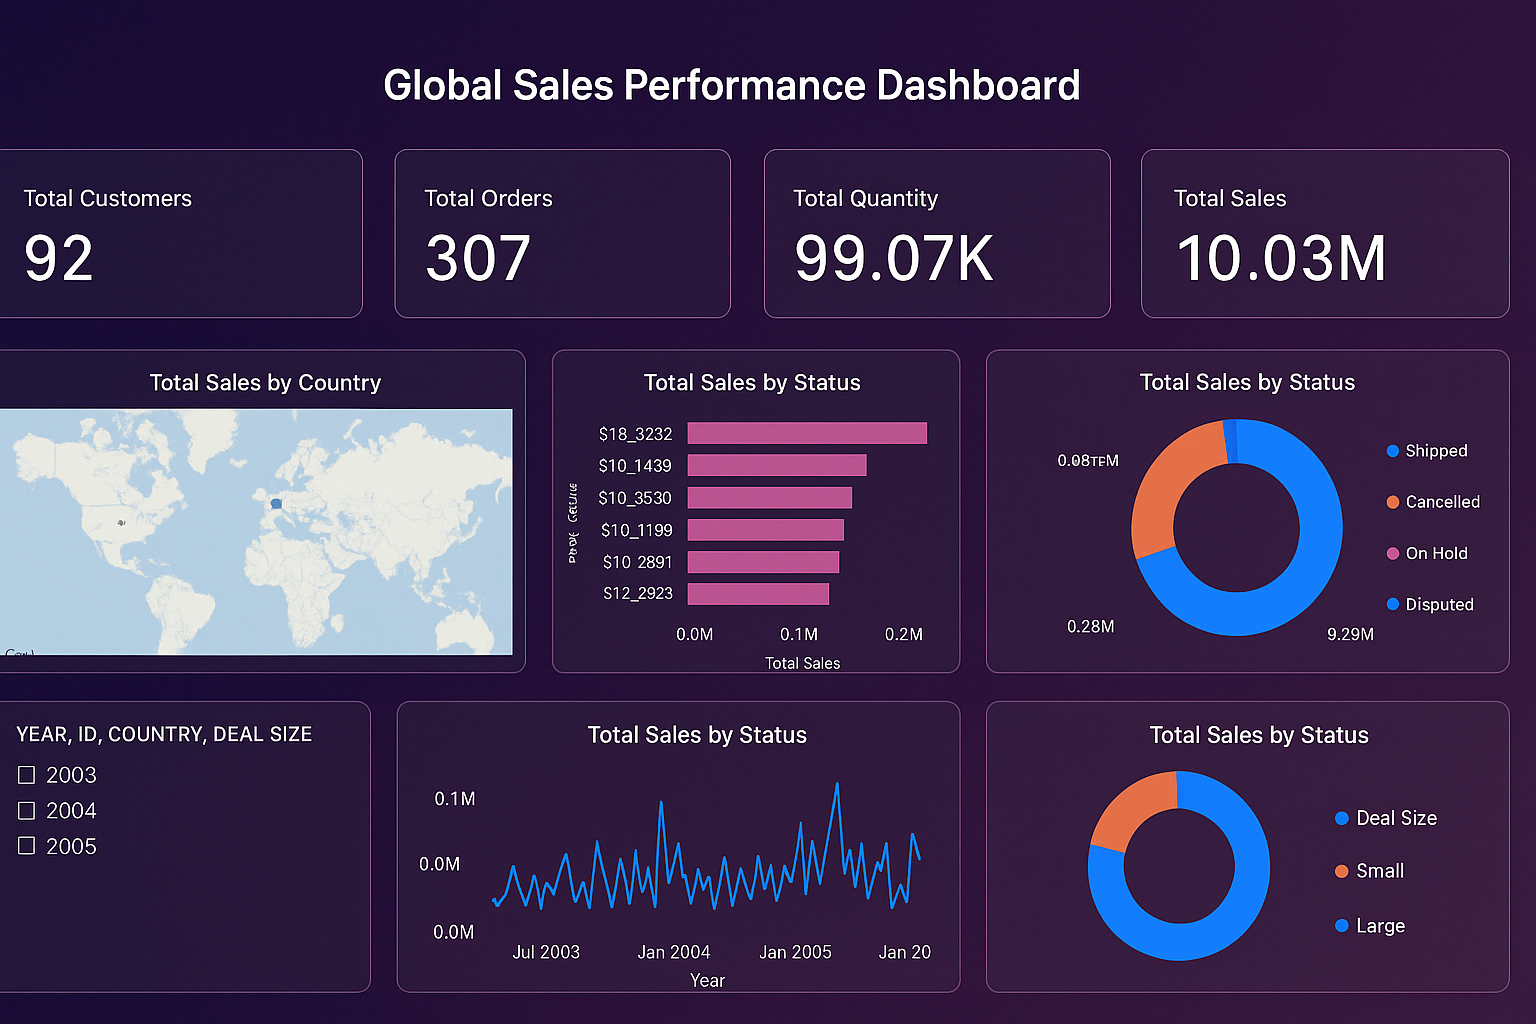

The dashboard page shown, as its layout file describes it:
{"tool":"powerbi","page":{"name":"Page 1","canvas":[1280,720],"ordinal":0},"visuals":[{"type":"donutChart","title":"total sales by status","fields":{"Y":["sales_data_sample.Total Sales"],"Category":["sales_data_sample.DEAL SIZE"]},"box":[528,496,480,176],"z":0},{"type":"donutChart","title":"total sales by status","fields":{"Category":["sales_data_sample.STATUS"],"Y":["sales_data_sample.Total Sales"]},"box":[16,256,480,176],"z":1000},{"type":"lineChart","title":"total sales by status","fields":{"Category":["sales_data_sample.ORDER DATE.Variation.Date Hierarchy.Year","sales_data_sample.ORDER DATE.Variation.Date Hierarchy.Quarter","sales_data_sample.ORDER DATE.Variation.Date Hierarchy.Month","sales_data_sample.ORDER DATE.Variation.Date Hierarchy.Day"],"Y":["sales_data_sample.Total Sales"]},"box":[16,496,480,176],"z":2000},{"type":"map","title":"total sales by status","fields":{"Size":["sales_data_sample.Total Sales"],"Category":["sales_data_sample.COUNTRY"]},"box":[1024,480,256,208],"z":3000},{"type":"clusteredBarChart","title":"total sales by status","fields":{"Category":["sales_data_sample.PRODUCT CODE"],"Y":["sales_data_sample.Total Sales"]},"box":[544,256,480,176],"z":4000},{"type":"slicer","title":"total sales by status","fields":{"Values":["sales_data_sample.YEAR_ID","sales_data_sample.COUNTRY","sales_data_sample.DEAL SIZE"]},"box":[1040,272,240,128],"z":5000},{"type":"cardVisual","title":"total sales by status","fields":{"Data":["sales_data_sample.Total Sales"]},"box":[976,96,256,128],"z":6000},{"type":"cardVisual","fields":{"Data":["sales_data_sample.Total Quantity"]},"box":[672,96,256,128],"z":7000},{"type":"cardVisual","fields":{"Data":["sales_data_sample.Total Orders"]},"box":[368,96,256,128],"z":8000},{"type":"cardVisual","fields":{"Data":["sales_data_sample.Total Customers"]},"box":[48,96,256,128],"z":9000},{"type":"textbox","box":[336,16,576,64],"z":10000}]}

Visuals, with their boxes on the page's 1280x720 design canvas (x1, y1, x2, y2). These are canvas units, not pixel positions in the 1536x1024 screenshot, which may show the page scaled, cropped or inside an application window:
"total sales by status" donutChart: crop(528, 496, 1008, 672)
"total sales by status" donutChart: crop(16, 256, 496, 432)
"total sales by status" lineChart: crop(16, 496, 496, 672)
"total sales by status" map: crop(1024, 480, 1280, 688)
"total sales by status" clusteredBarChart: crop(544, 256, 1024, 432)
"total sales by status" slicer: crop(1040, 272, 1280, 400)
"total sales by status" cardVisual: crop(976, 96, 1232, 224)
cardVisual - sales_data_sample.Total Quantity: crop(672, 96, 928, 224)
cardVisual - sales_data_sample.Total Orders: crop(368, 96, 624, 224)
cardVisual - sales_data_sample.Total Customers: crop(48, 96, 304, 224)
textbox: crop(336, 16, 912, 80)
